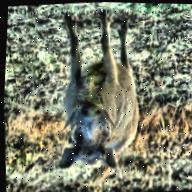boar: (47, 5, 147, 173)
